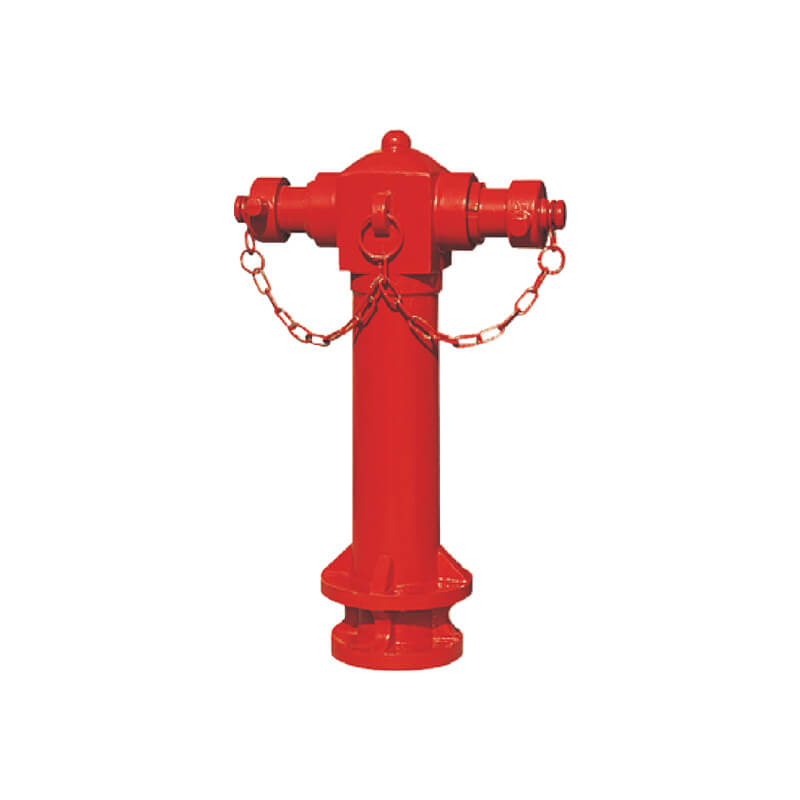FireHydrant: (206, 127, 571, 684)
